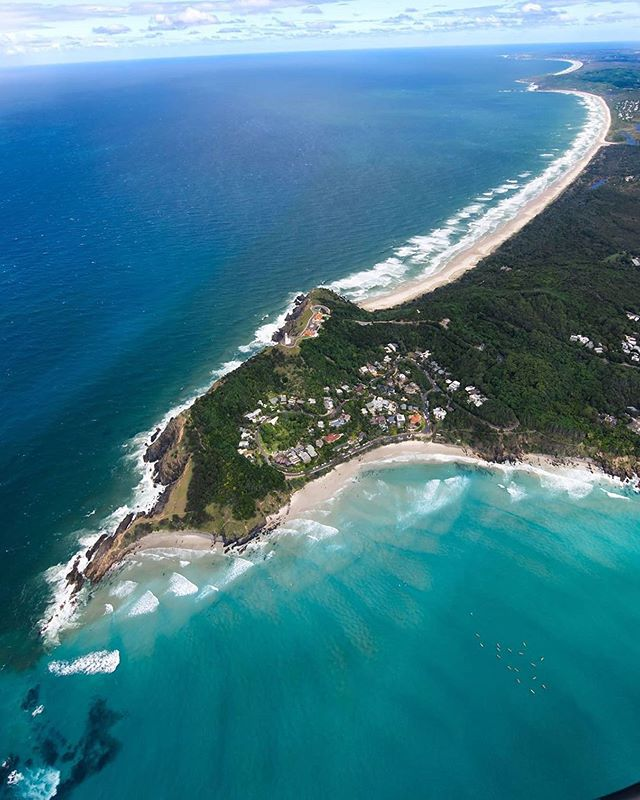sea: (1, 57, 578, 493), (50, 486, 640, 800)
sky: (7, 1, 640, 57)
